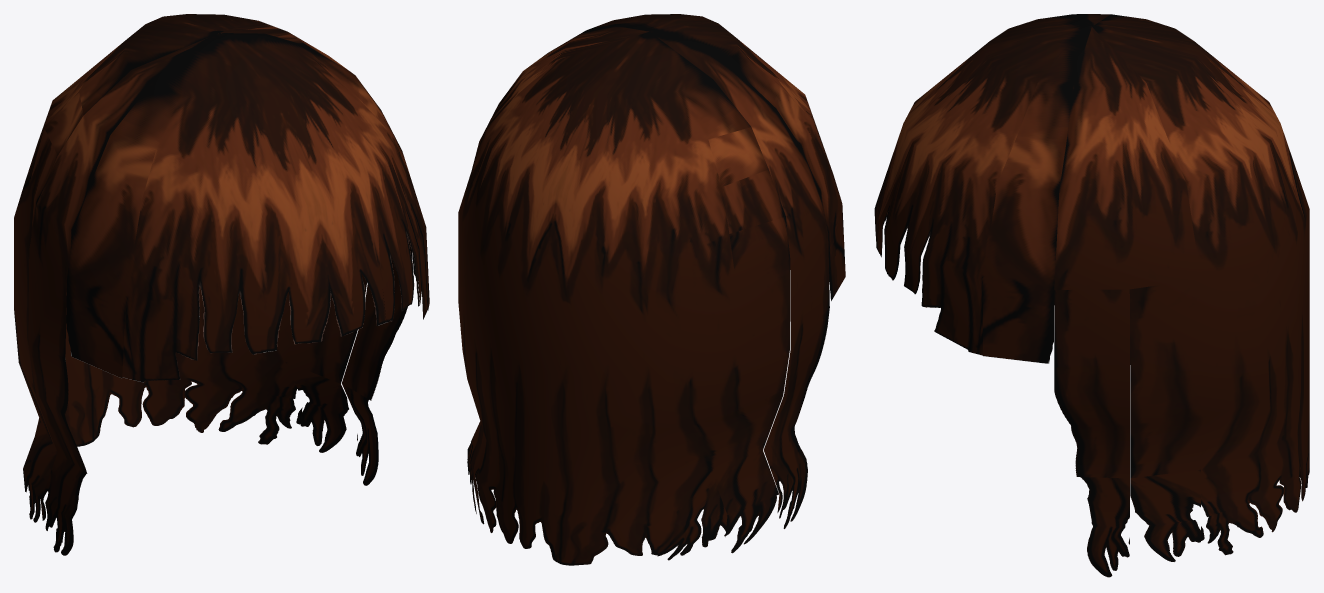
File: 基本Q版女角模型第三版綁好骨架頭髮.fbx
3 renders of one model, left to right at view 1: azimuth 30°, elevation 25°; view 2: azimuth 150°, elevation 25°; view 3: azimuth 270°, elevation 25°, orthographic. The views are drawn at different scales.
Parts seen in each view (by area): view 1: 頭髮; view 2: 頭髮; view 3: 頭髮.
Part boxes in pixels (left/top/right/bottom): 頭髮: left=14, top=14, right=429, bottom=555; 頭髮: left=458, top=14, right=845, bottom=565; 頭髮: left=874, top=14, right=1309, bottom=577.
Size of the model in its own units: 136 by 186 by 153.
